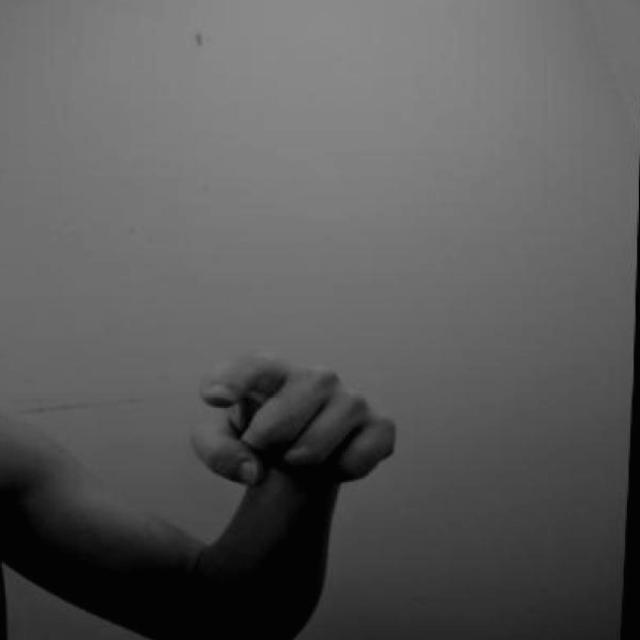Z: (181, 320, 416, 515)
